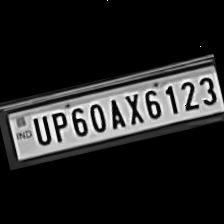0: (83, 97, 110, 134)
1: (156, 81, 181, 117)
2: (174, 76, 200, 114)
3: (192, 71, 218, 108)
6: (137, 84, 165, 122), (64, 102, 90, 138)
A: (101, 94, 127, 130)
P: (44, 107, 70, 144)
U: (26, 110, 54, 147)
X: (119, 89, 144, 126)
